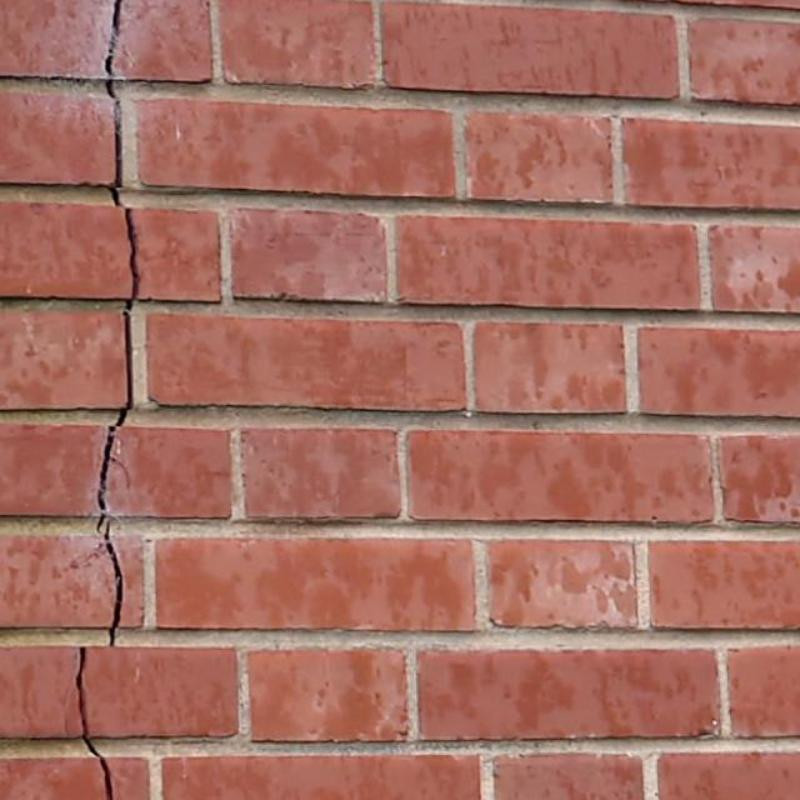pothole: (97, 0, 138, 645), (77, 648, 112, 799)
